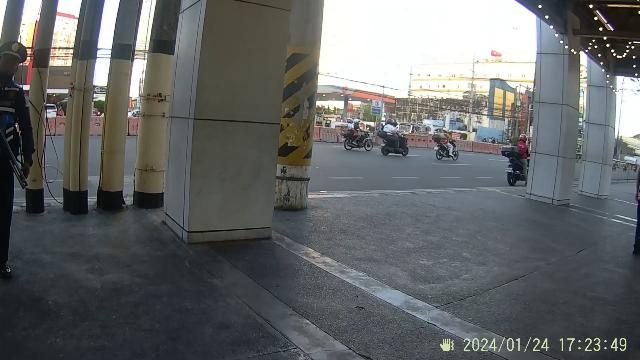utility_post: (134, 0, 184, 216), (280, 0, 320, 210), (97, 0, 135, 212), (66, 3, 94, 217), (29, 5, 55, 216)
